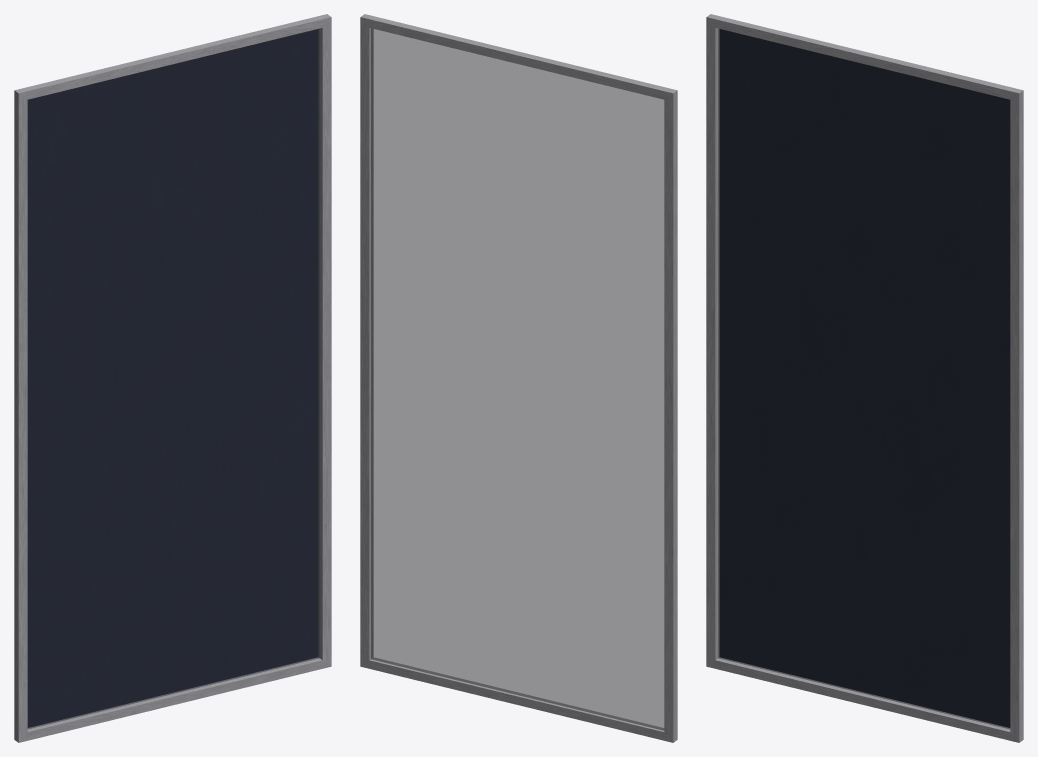
The model's file is tallWindow.fbx.
3 renders of one model, left to right at view 1: azimuth 30°, elevation 25°; view 2: azimuth 150°, elevation 25°; view 3: azimuth 330°, elevation 25°, orthographic.
Visible parts, largest first — view 1: Plane.019; view 2: Plane.019; view 3: Plane.019.
Part boxes in pixels (x1,y1,x2,y2): Plane.019: (14, 14, 331, 742); Plane.019: (360, 14, 677, 742); Plane.019: (706, 14, 1023, 742).
Bounding box in the file's own units: 504 × 1000 × 11.84.
3 materials, 2 textured.
